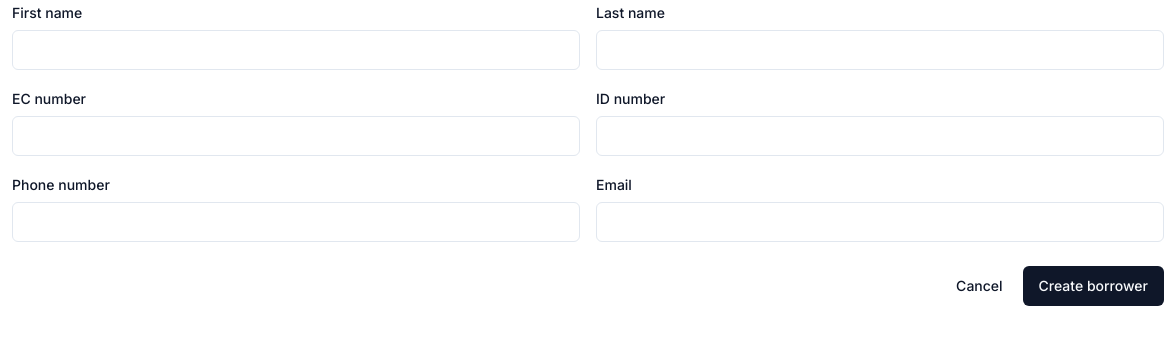
Test: BorrowerForm — create › maps a 409 conflict to a fieldError
Type "Dup" into the field labelled "First name".
click(296, 50); type("Dup")  # box [12,30,580,70]
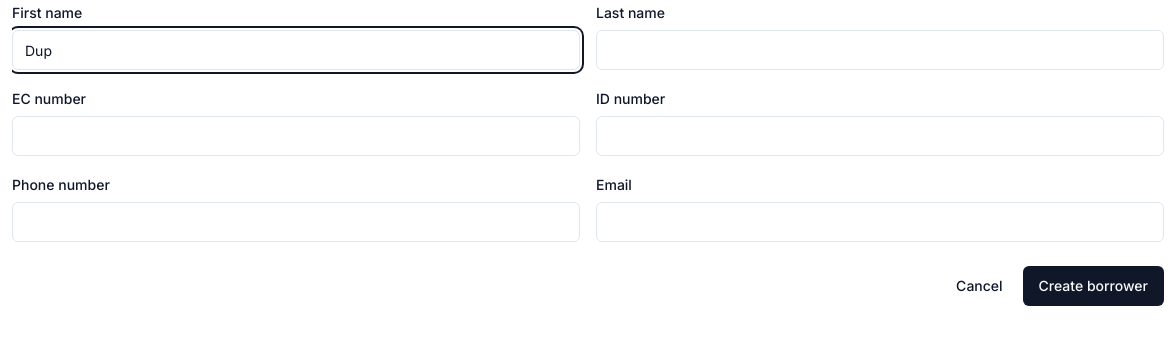
Type "Licate" into the field labelled "Last name".
click(880, 50); type("Licate")  # box [596,30,1164,70]
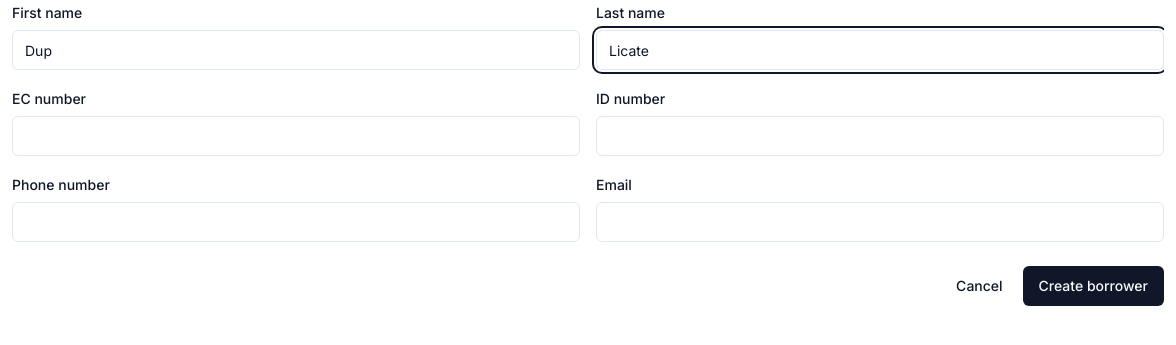
Type "EC-100" into the field labelled "EC number".
click(296, 136); type("EC-100")  # box [12,116,580,156]
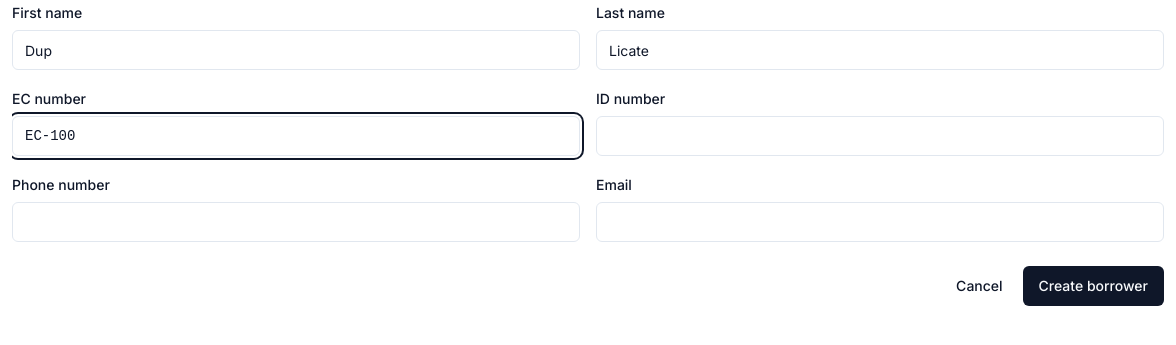
Type "ID-500" into the field labelled "ID number".
click(880, 136); type("ID-500")  # box [596,116,1164,156]
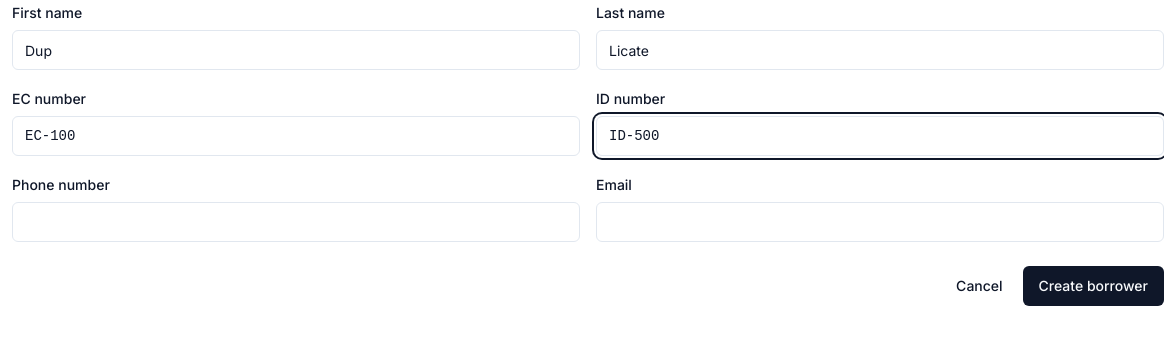
Click the button "Create borrower".
click(1093, 286)  # box [1023,266,1164,306]
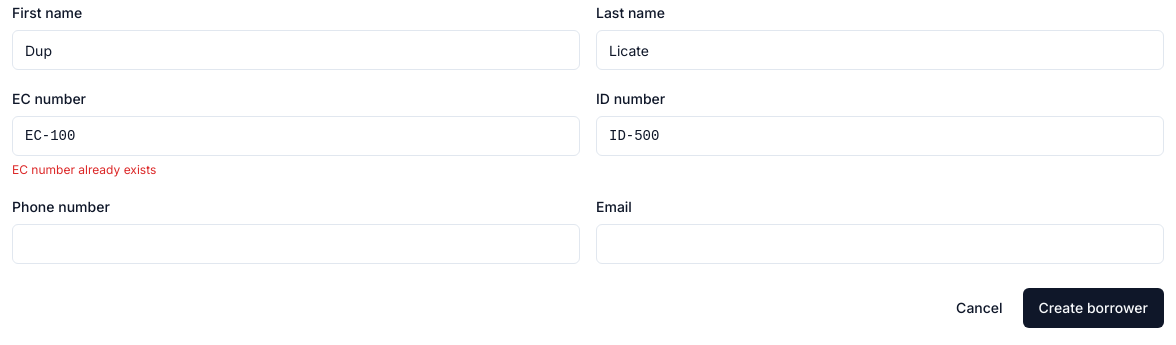
Check: the text "EC number already exists" is shown, box [12,162,156,177]
